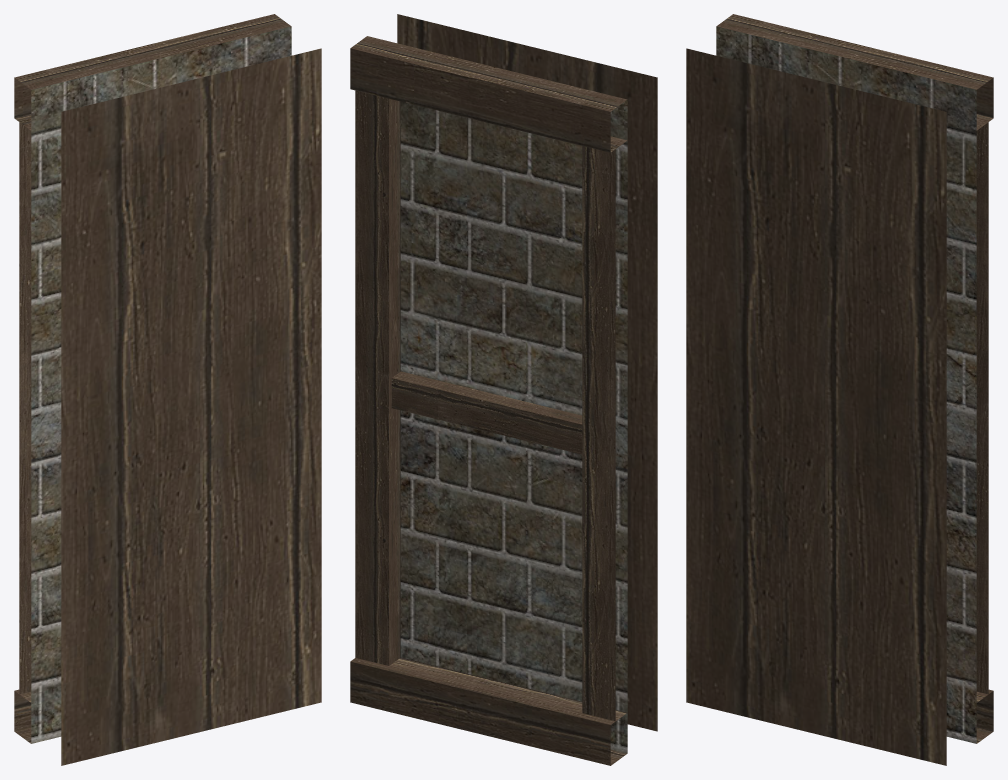
Rendered from ARC1010232.fbx.
The picture shows the model from 3 angles, left to right: view 1: azimuth 30°, elevation 25°; view 2: azimuth 150°, elevation 25°; view 3: azimuth 330°, elevation 25°; orthographic projection.
Visible parts, largest first — view 1: smARC1010232; view 2: smARC1010232; view 3: smARC1010232.
Boxes of the visible parts, box(x1,y1,x2,y2) form: smARC1010232: box(14, 14, 321, 765); smARC1010232: box(350, 14, 657, 765); smARC1010232: box(686, 14, 993, 765).
Bounding box in the file's own units: 112 × 268 × 34.9.
Materials: 1 (1 with a texture image).
